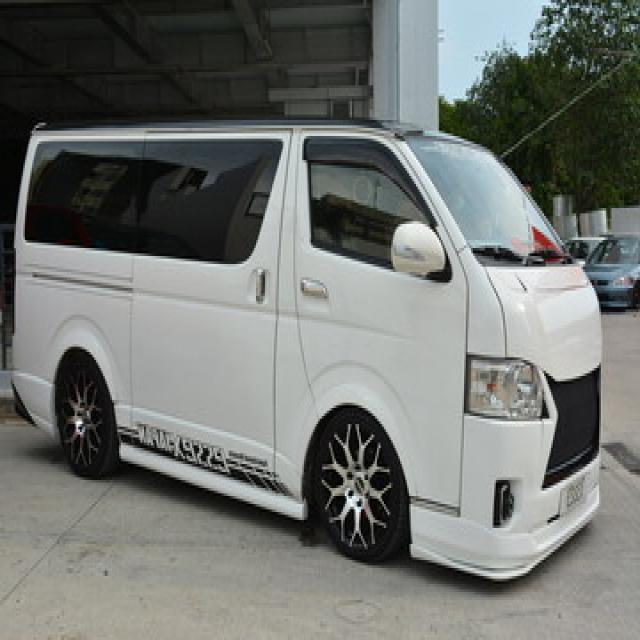car: (585, 235, 638, 307), (564, 237, 603, 264)
van: (12, 120, 599, 579)
